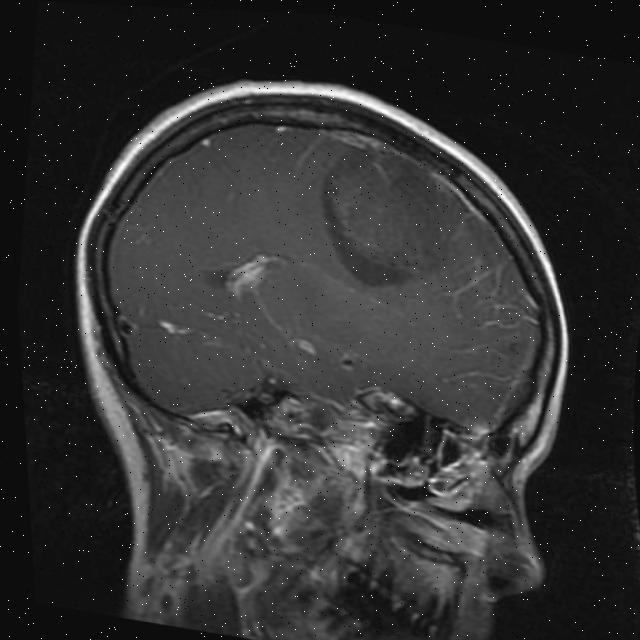Glioma: (306, 136, 465, 300)
